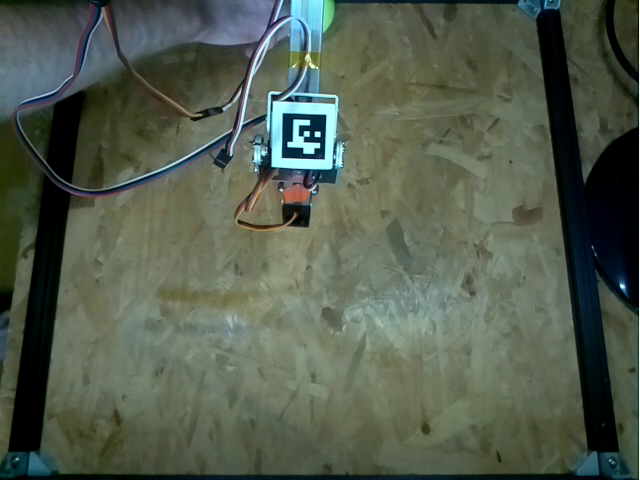tennis_ball: (323, 1, 336, 32)
